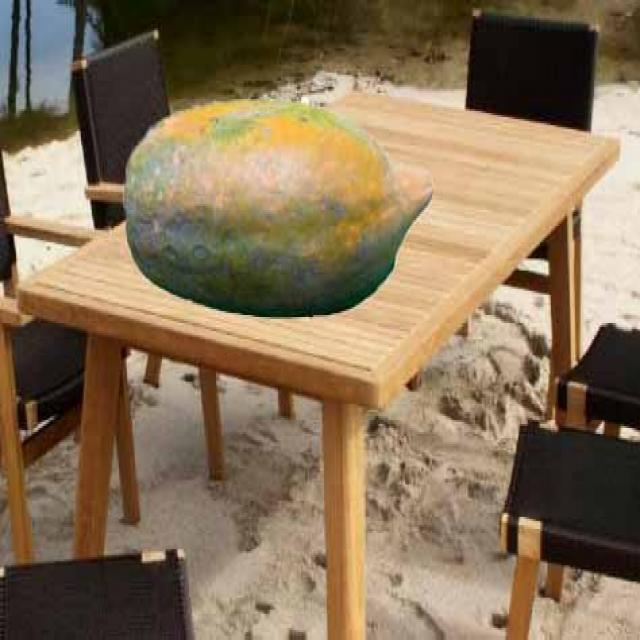Pepaya rippen: (115, 95, 436, 323)
